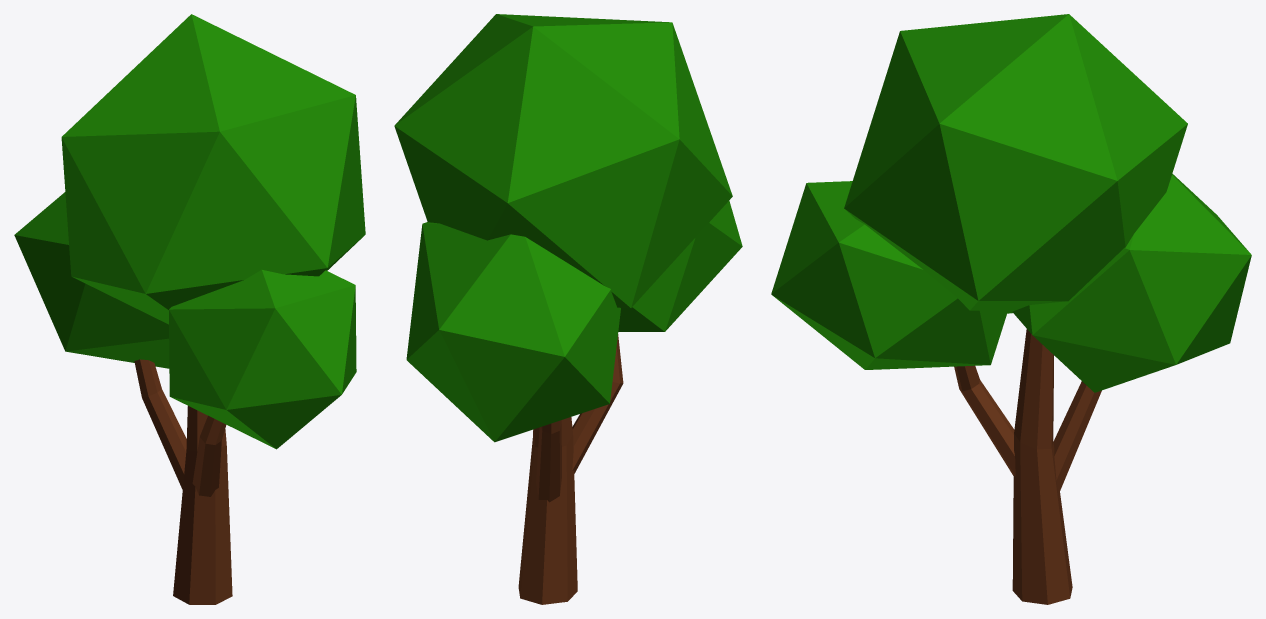
File: tree4.glb
3 views of the same model, side by side, from view 1: azimuth 30°, elevation 25°; view 2: azimuth 150°, elevation 25°; view 3: azimuth 270°, elevation 25° (orthographic).
Visible parts, largest first — view 1: Cylinder.009; view 2: Cylinder.009; view 3: Cylinder.009.
Part boxes in pixels (<box>): Cylinder.009: <box>14,14,365,604</box>; Cylinder.009: <box>394,14,742,604</box>; Cylinder.009: <box>771,14,1251,604</box>.
Bounding box in the file's own units: 3.14 × 6.4 × 4.82.
